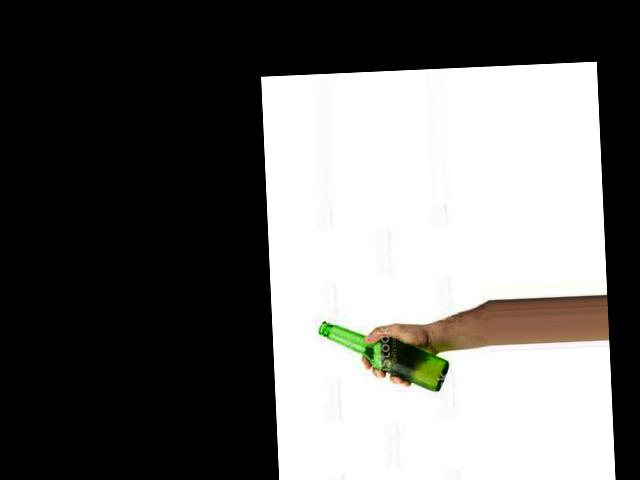beer: (317, 315, 448, 396)
